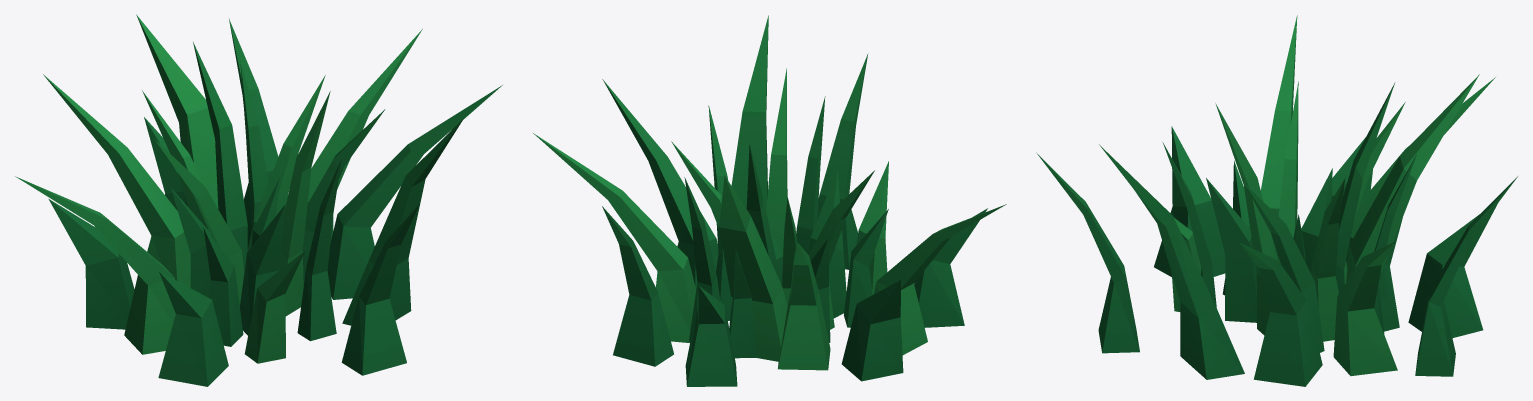
Rendered from grass_short.glb.
3 views of the same model, side by side, from view 1: azimuth 30°, elevation 25°; view 2: azimuth 150°, elevation 25°; view 3: azimuth 270°, elevation 25° (orthographic). The views are drawn at different scales.
Parts seen in each view (by area): view 1: grass_short; view 2: grass_short; view 3: grass_short.
Boxes of the visible parts, x1=… form: grass_short: x1=15, y1=14, x2=502, y2=386; grass_short: x1=533, y1=15, x2=1006, y2=386; grass_short: x1=1036, y1=15, x2=1517, y2=386.
Bounding box in the file's own units: 0.7006 × 0.35 × 0.6258.
Materials: 1 (1 with a texture image).
